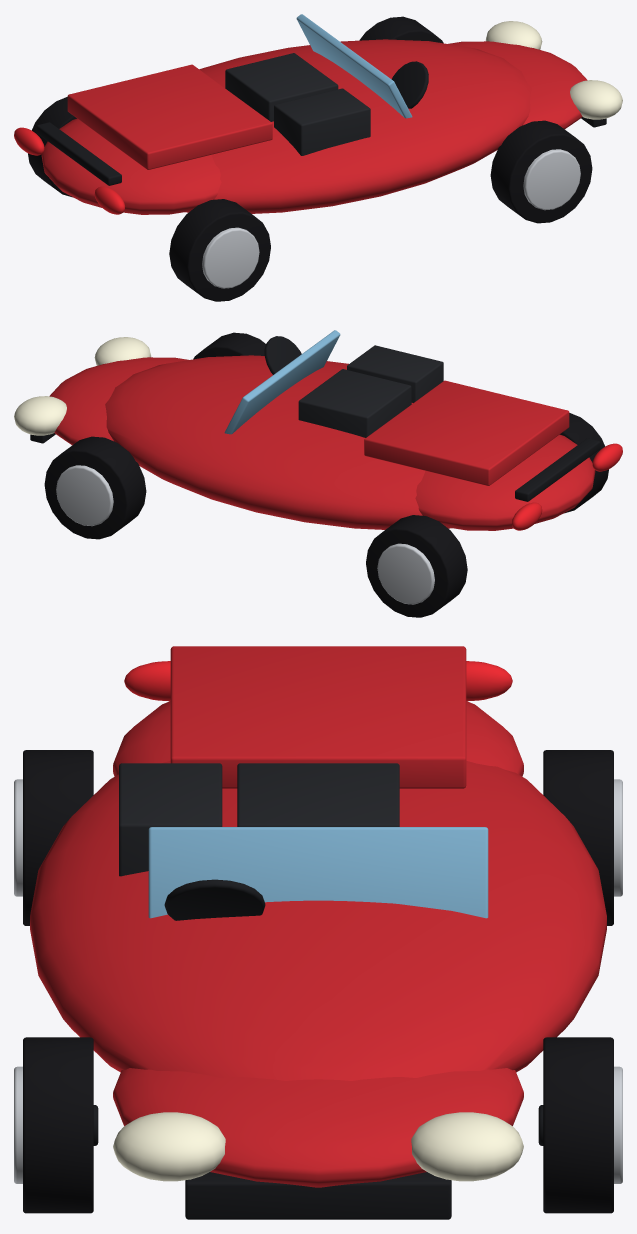
Rendered from roadster2008.glb.
3 views of the same model, one above another, from view 1: azimuth 30°, elevation 25°; view 2: azimuth 150°, elevation 25°; view 3: azimuth 270°, elevation 25° (orthographic). The views are drawn at different scales.
Visible parts, largest first — view 1: roadster2008; view 2: roadster2008; view 3: roadster2008.
Boxes of the visible parts, <box> form: roadster2008: <box>14,14,622,301</box>; roadster2008: <box>14,330,622,617</box>; roadster2008: <box>14,646,622,1219</box>.
Bounding box in the file's own units: 3.73 × 1 × 2.06.
